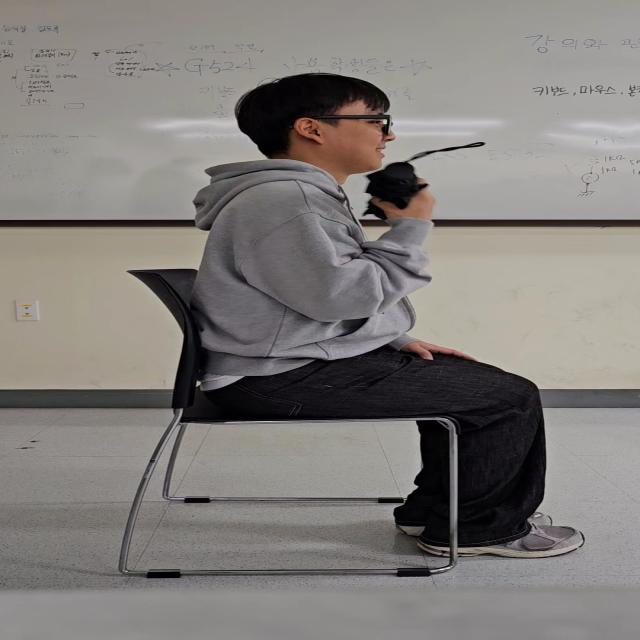curl: (218, 159, 471, 328)
